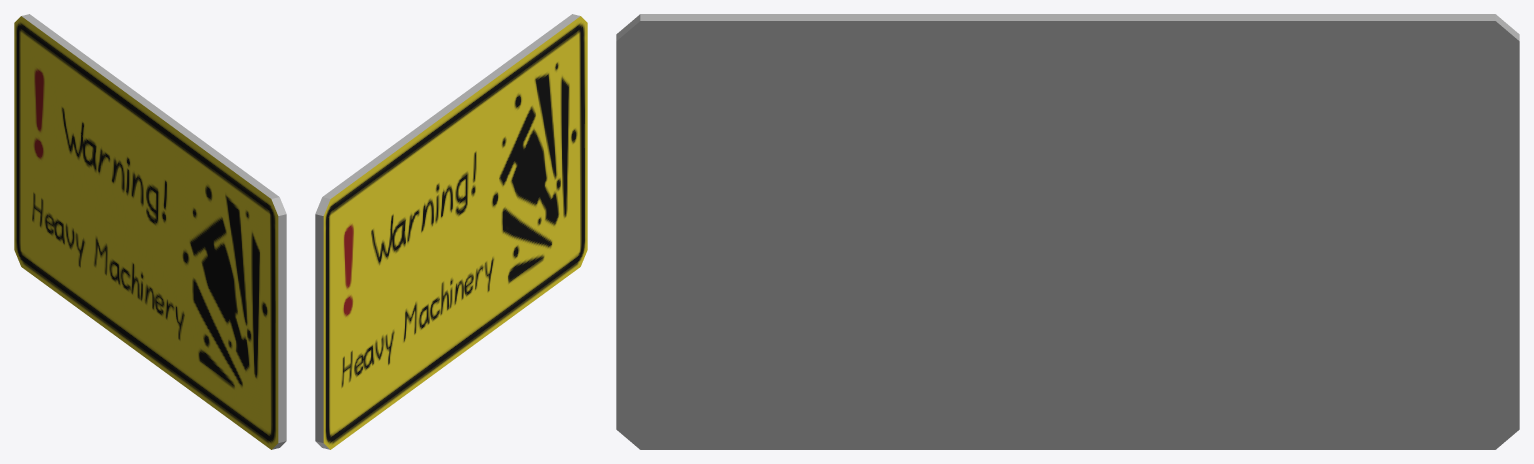
Rendered from Heavy Machinery Sign.fbx.
The picture shows the model from 3 angles, left to right: view 1: azimuth 30°, elevation 25°; view 2: azimuth 150°, elevation 25°; view 3: azimuth 270°, elevation 25°; orthographic projection. The views are drawn at different scales.
Visible parts, largest first — view 1: Heavy Machinery Sign; view 2: Heavy Machinery Sign; view 3: Heavy Machinery Sign.
Part boxes in pixels (x1=…): Heavy Machinery Sign: x1=14, y1=14, x2=286, y2=449; Heavy Machinery Sign: x1=315, y1=14, x2=587, y2=449; Heavy Machinery Sign: x1=616, y1=14, x2=1519, y2=449.
Bounding box in the file's own units: 0.0574 × 1.64 × 3.13.
